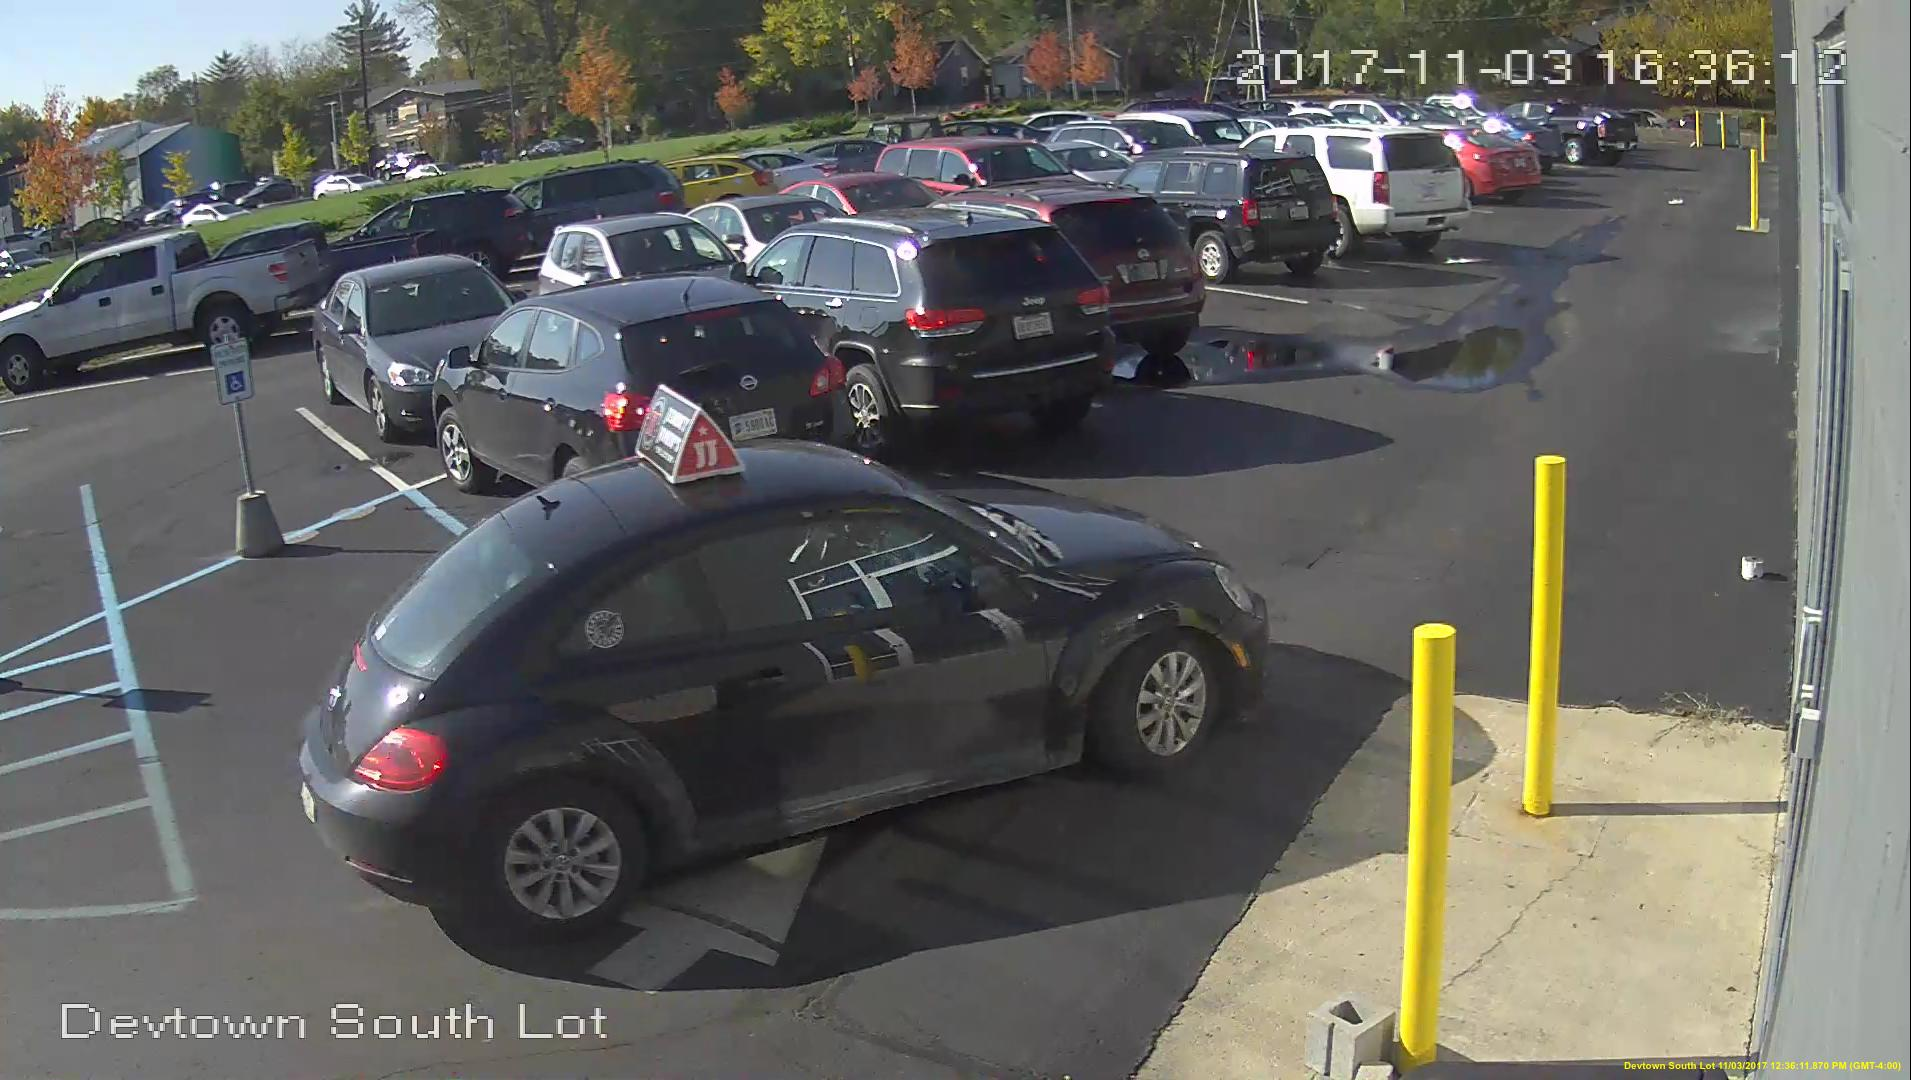jimmy_johns: (630, 379, 749, 491)
